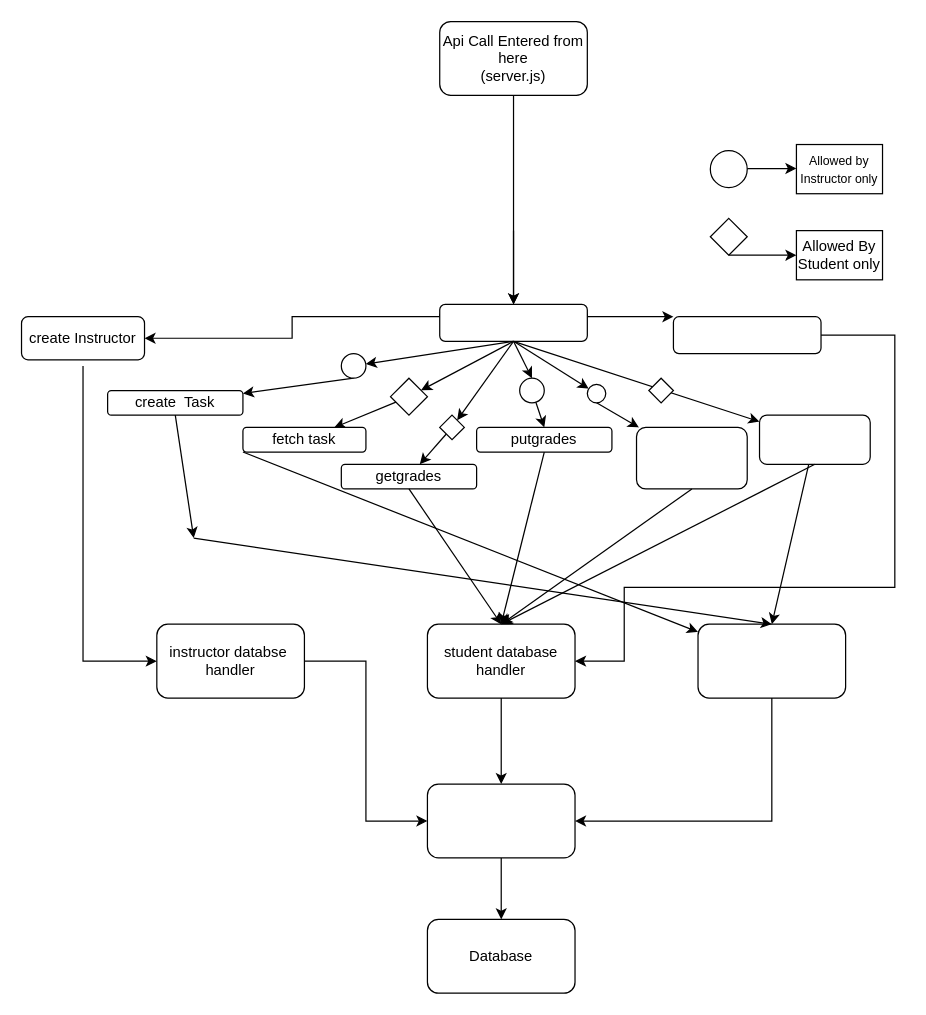
The diagram is 926 pixels wide and 1015 high, and some of its shapes have lost their labels. Here are the shapes that lost their labels. From the top down, the centre of each, then its label:
At [512,322]: "index.js".
At [746,334]: "create User".
At [691,457]: "student task performance for instructor".
At [814,439]: "SubmitTask".
At [771,660]: "task database handler".
At [500,820]: "Pg (For connection with prodtgresql)".
